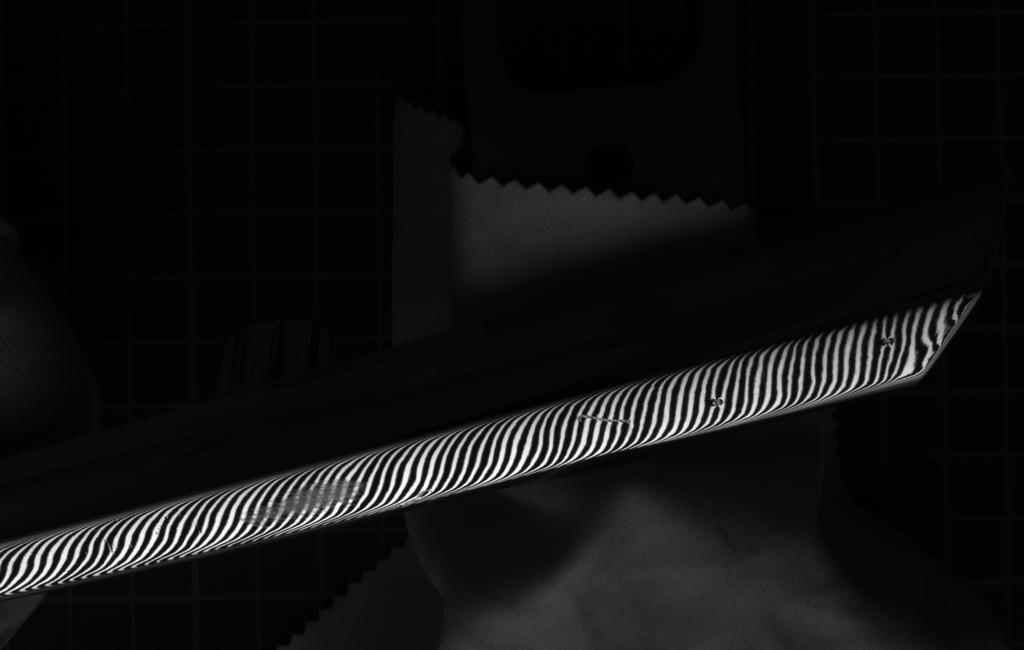Pierced: (705, 393, 730, 415), (875, 335, 903, 351)
Pitting: (234, 473, 368, 530)
Scratch: (567, 413, 642, 427)
